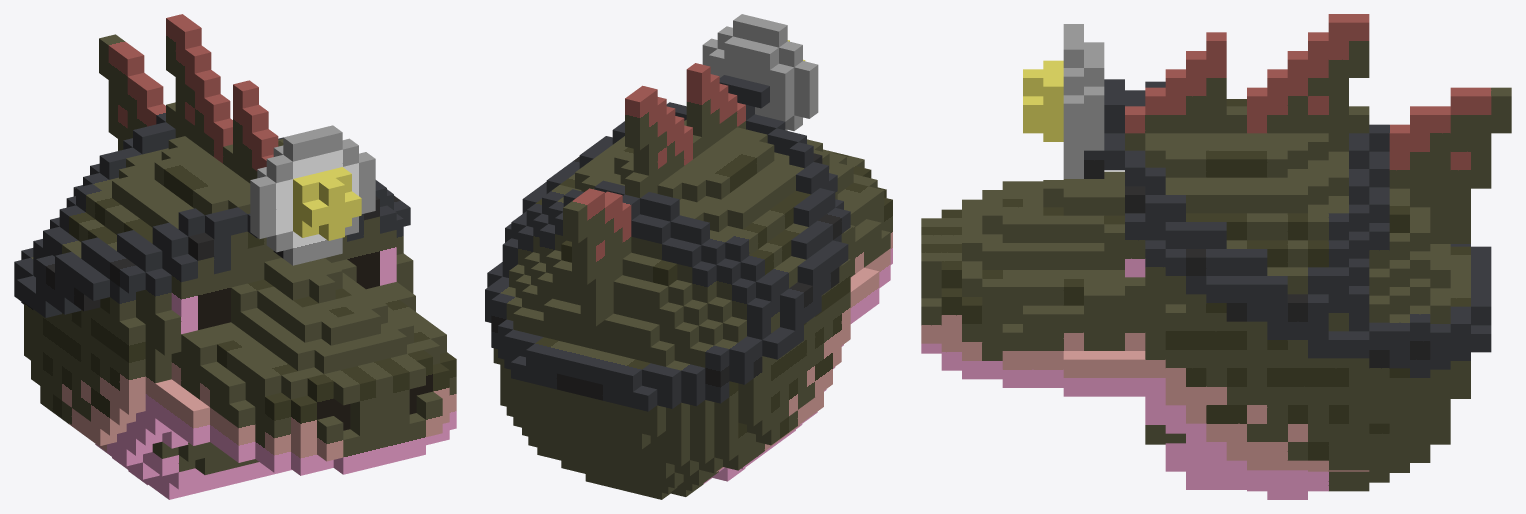
Rendered from doctor_rainbow spectacles.gltf.
The picture shows the model from 3 angles, left to right: view 1: azimuth 30°, elevation 25°; view 2: azimuth 150°, elevation 25°; view 3: azimuth 270°, elevation 25°; orthographic projection. The views are drawn at different scales.
Visible parts, largest first — view 1: C14_H_DoctorL_RedG_RBSpec-Mesh; view 2: C14_H_DoctorL_RedG_RBSpec-Mesh; view 3: C14_H_DoctorL_RedG_RBSpec-Mesh.
Part boxes in pixels (x1,y1,x2,y2): C14_H_DoctorL_RedG_RBSpec-Mesh: (14,14,456,499); C14_H_DoctorL_RedG_RBSpec-Mesh: (485,14,892,499); C14_H_DoctorL_RedG_RBSpec-Mesh: (921,14,1511,499).
Bounding box in the file's own units: 19 × 24 × 29.
1 material, 1 textured.
